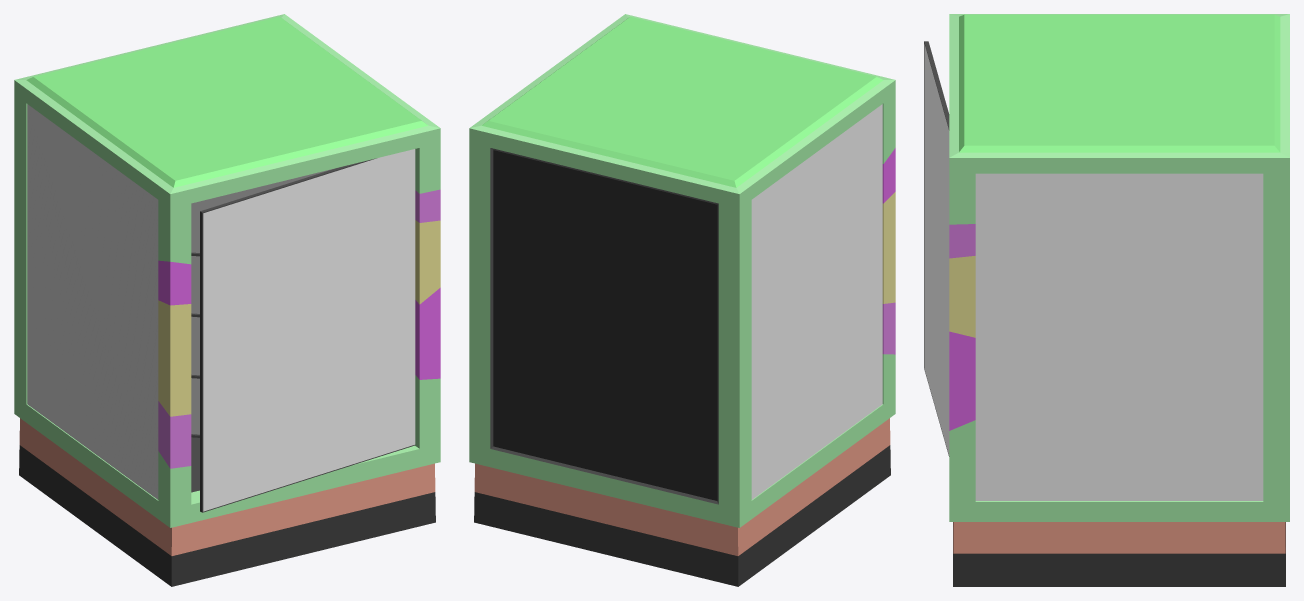
The model's file is Pizza Rack #2.fbx.
3 renders of one model, left to right at view 1: azimuth 30°, elevation 25°; view 2: azimuth 150°, elevation 25°; view 3: azimuth 270°, elevation 25°, orthographic. The views are drawn at different scales.
Visible parts, largest first — view 1: Pizza Rack #2; view 2: Pizza Rack #2; view 3: Pizza Rack #2.
Part boxes in pixels (<box>): Pizza Rack #2: <box>14,14,440,586</box>; Pizza Rack #2: <box>469,14,895,586</box>; Pizza Rack #2: <box>924,14,1289,586</box>.
Size of the model in its own units: 80.84 by 114 by 86.79.
Materials: 2 (1 with a texture image).
